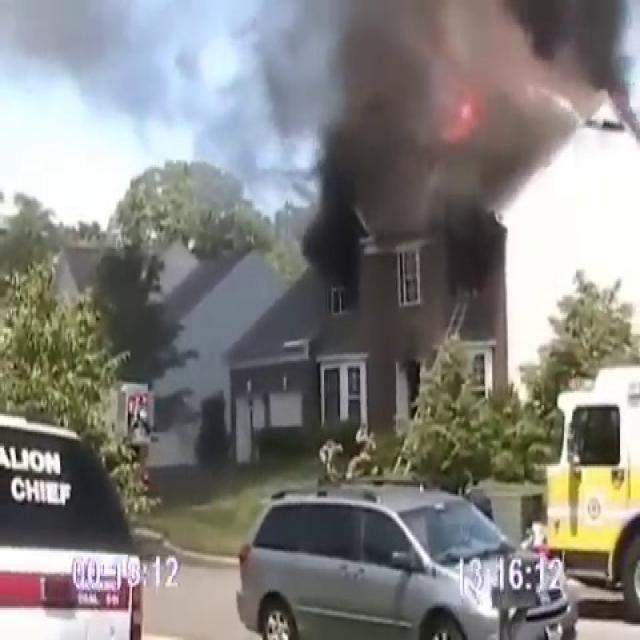Smoke: (266, 0, 640, 243)
